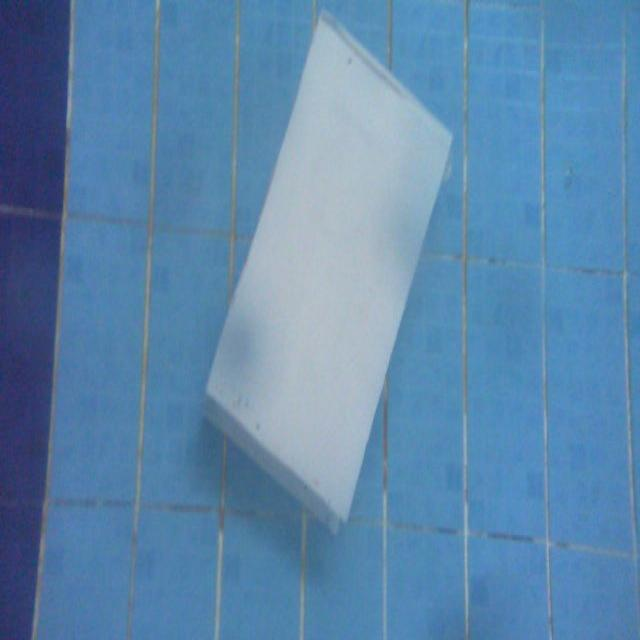Cuboid: (202, 9, 453, 533)
